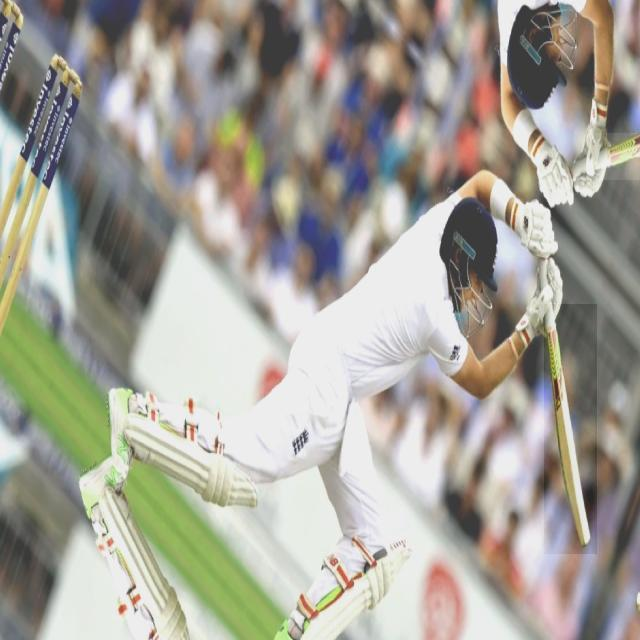bat: (545, 318, 595, 558)
